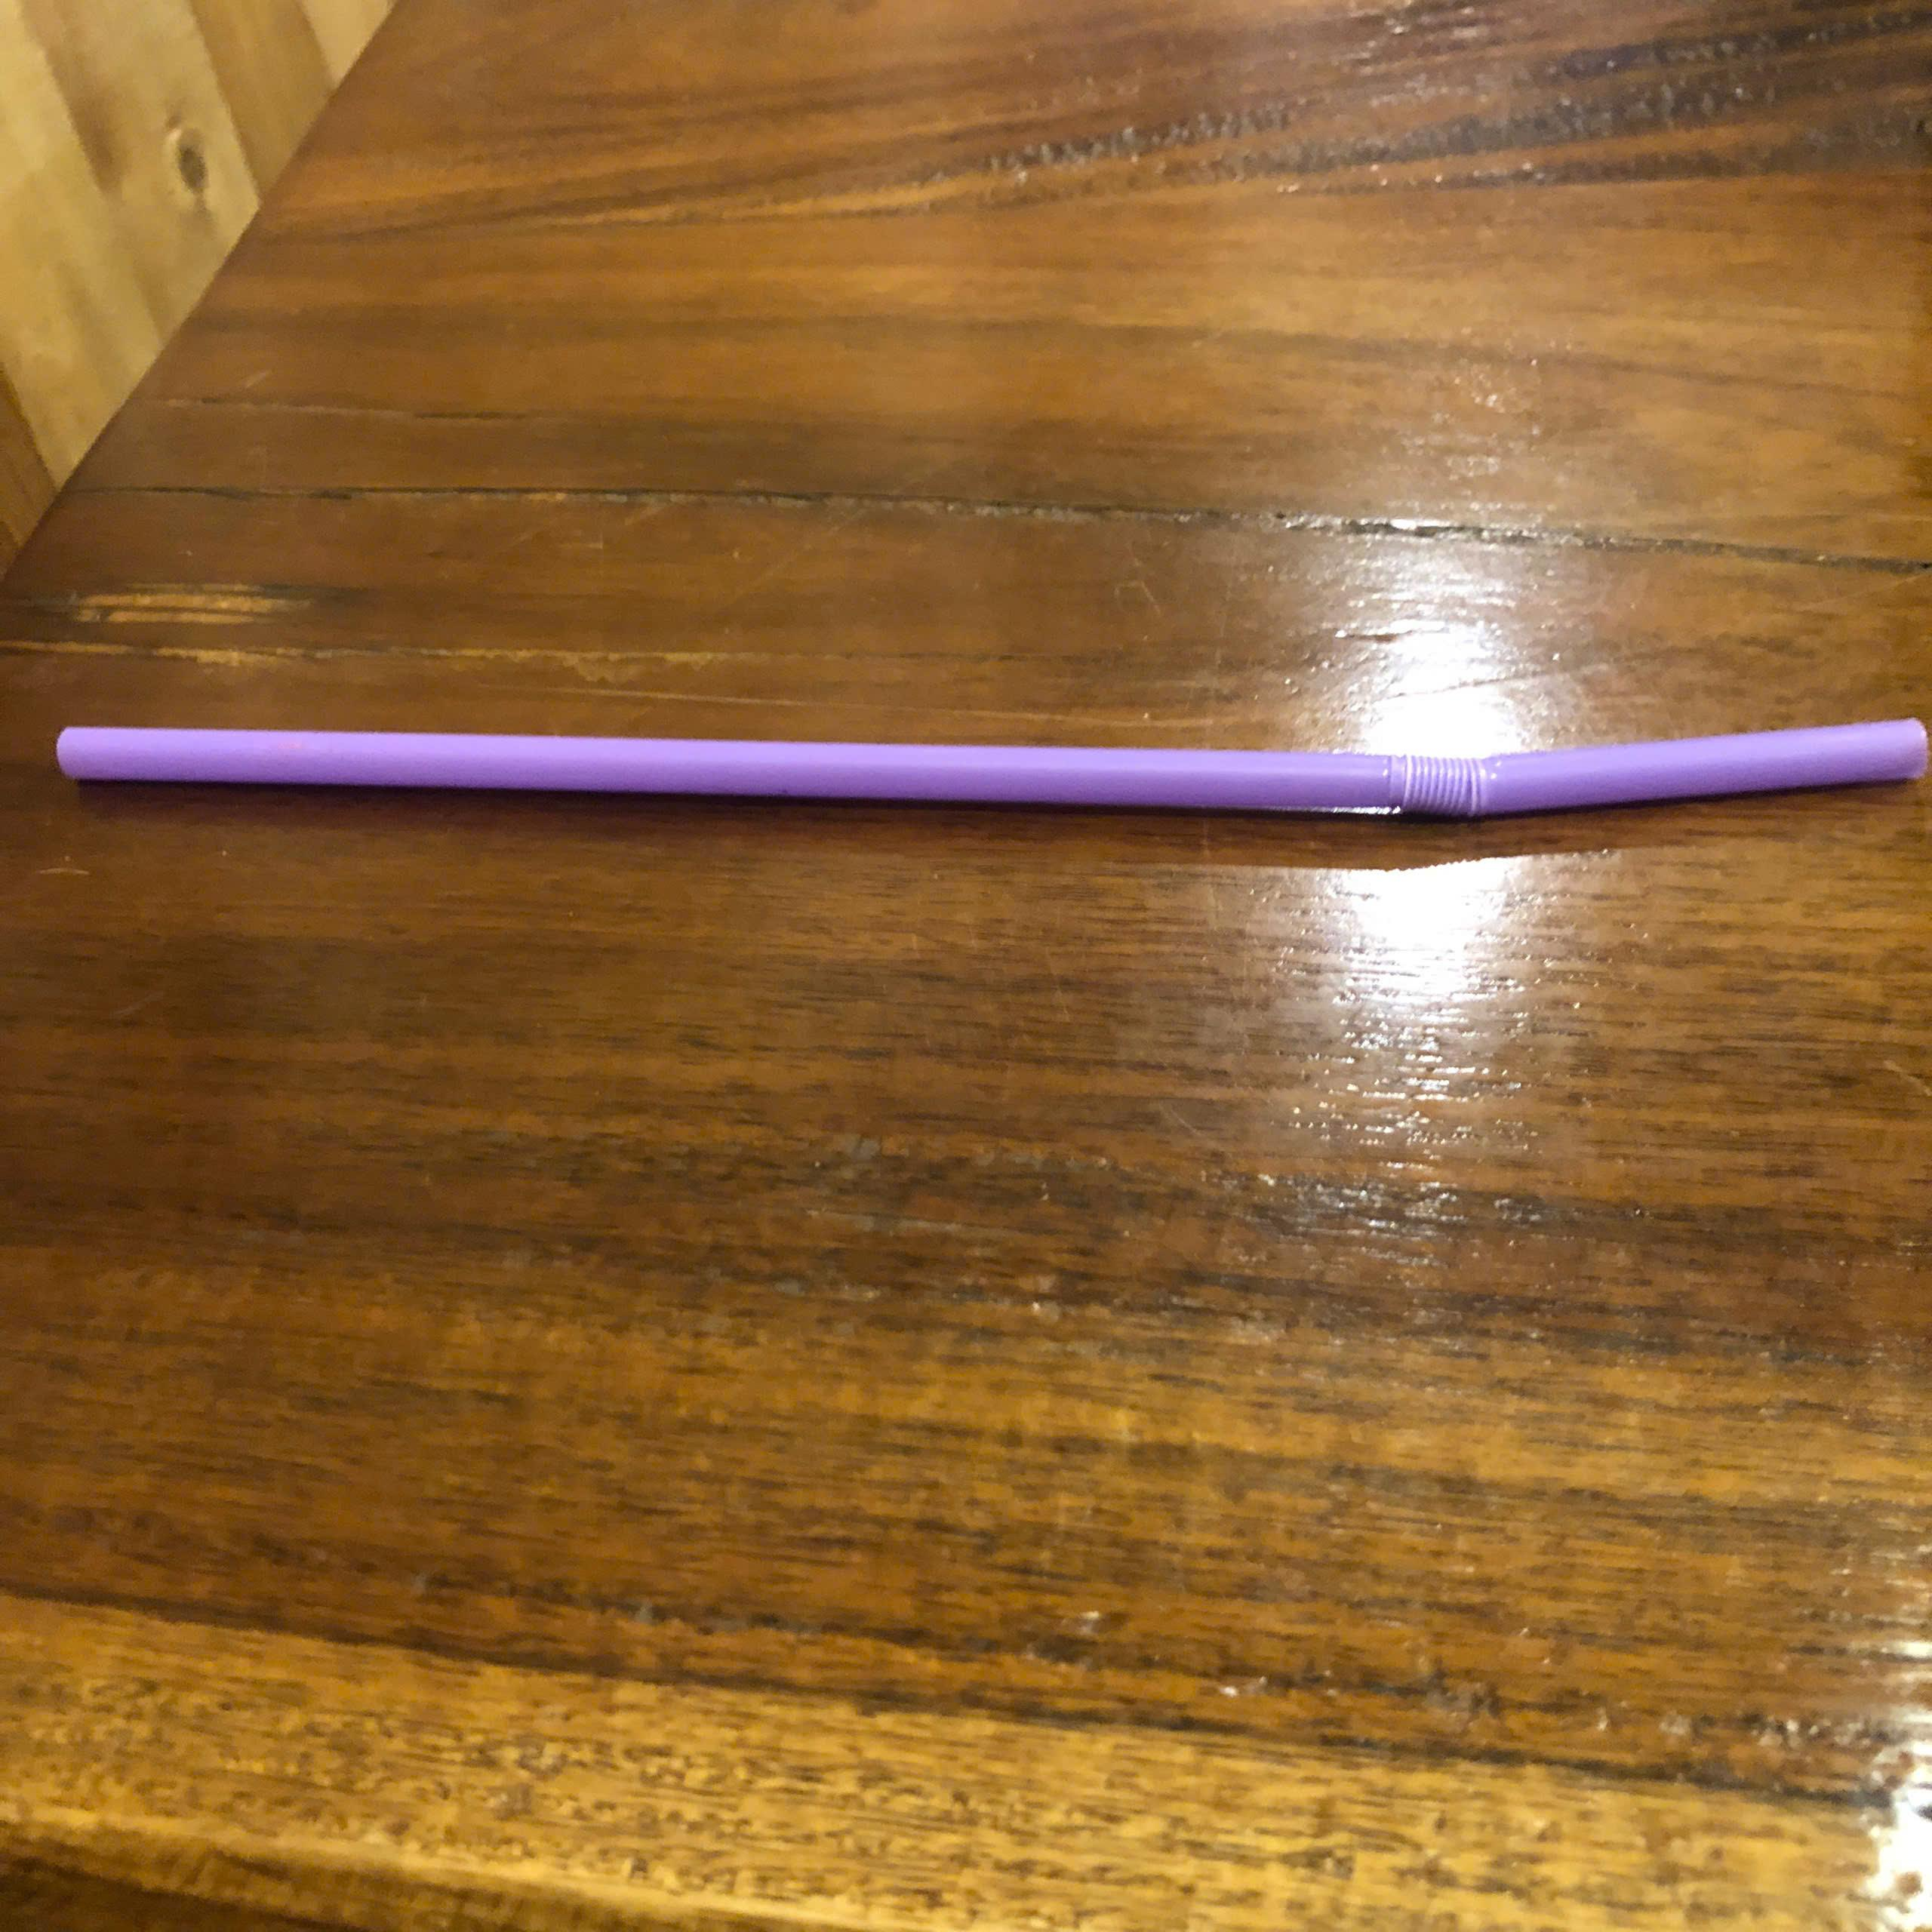Vo co: (53, 706, 1932, 826)
